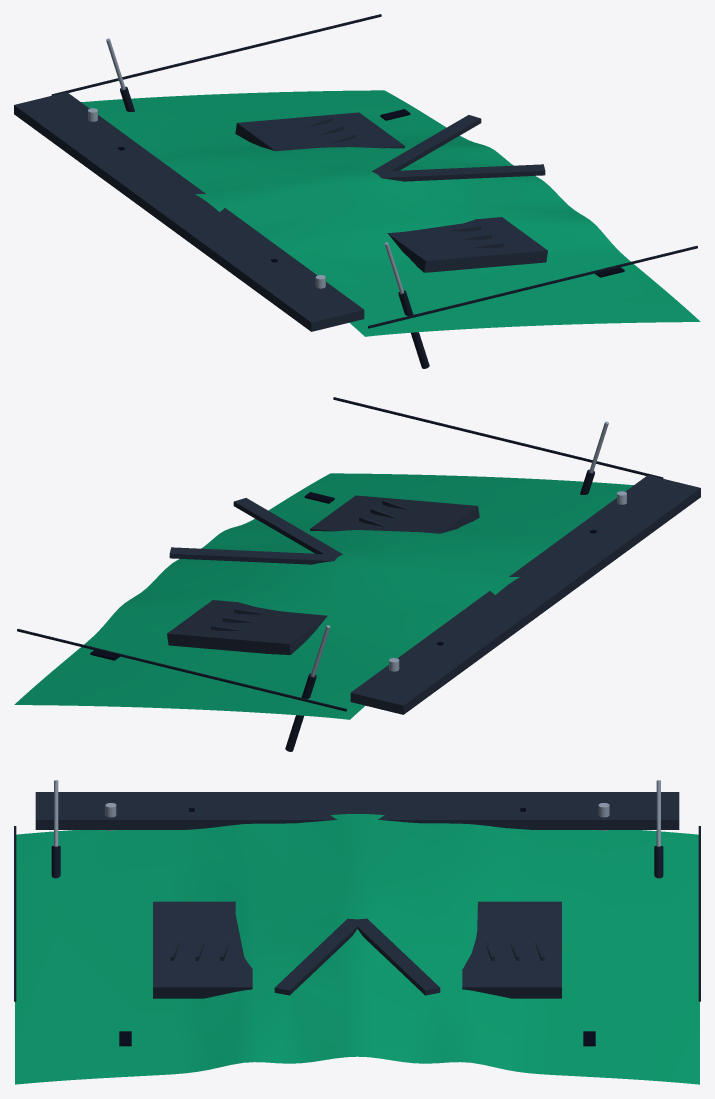
File: ford_escort_rs_cosworth_hood_closed.glb
3 renders of one model, top to bottom at view 1: azimuth 30°, elevation 25°; view 2: azimuth 150°, elevation 25°; view 3: azimuth 270°, elevation 25°, orthographic. The views are drawn at different scales.
Parts seen in each view (by area): view 1: Block04_ProductionSculptedHood; view 2: Block04_ProductionSculptedHood; view 3: Block04_ProductionSculptedHood.
Boxes of the visible parts, <box> form: Block04_ProductionSculptedHood: <box>14,14,700,368</box>; Block04_ProductionSculptedHood: <box>14,397,700,751</box>; Block04_ProductionSculptedHood: <box>14,780,700,1084</box>.
Bounding box in the file's own units: 0.86 × 0.2967 × 1.24.
